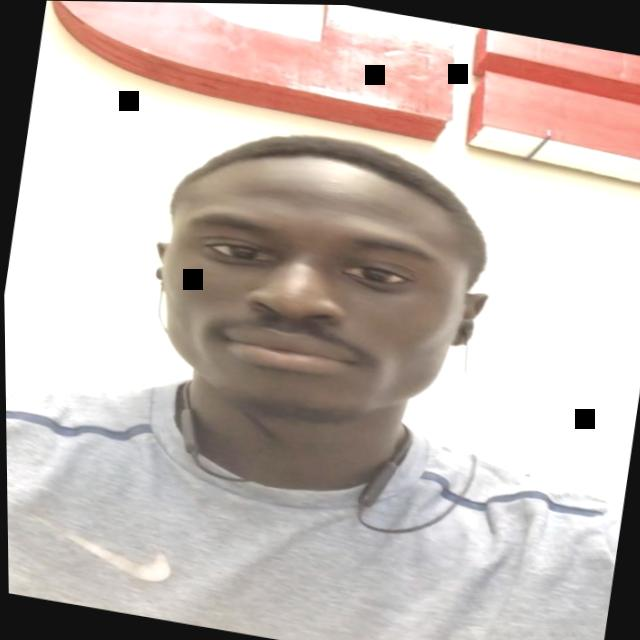NO-Mask: (133, 121, 493, 452)
